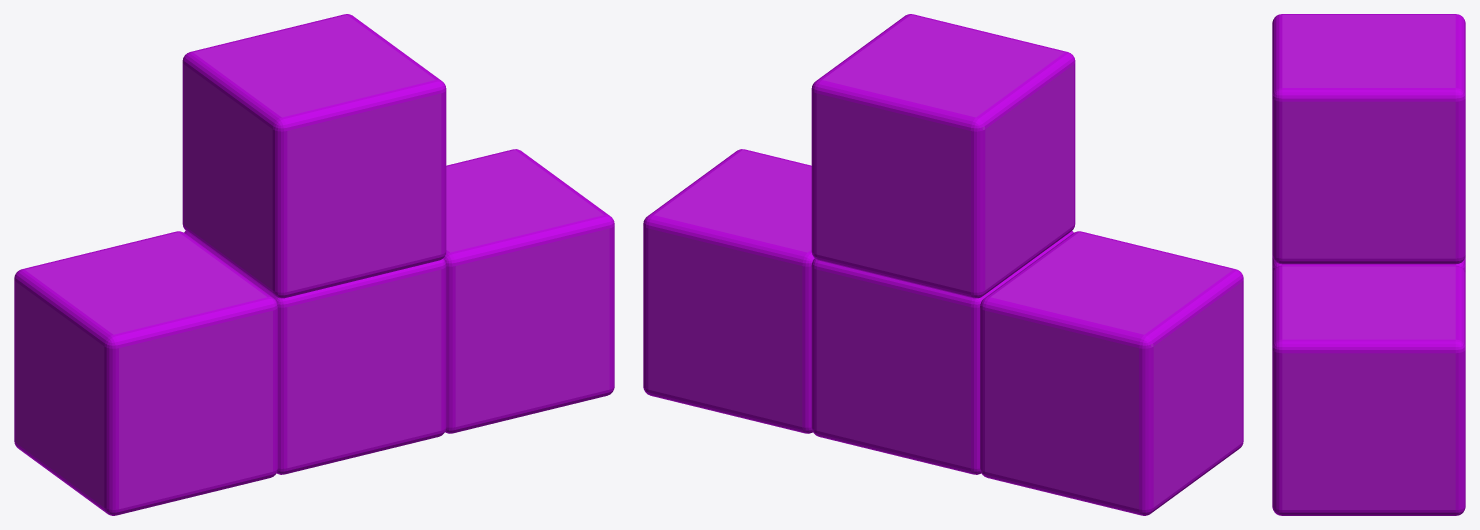
Rendered from purple.glb.
3 views of the same model, side by side, from view 1: azimuth 30°, elevation 25°; view 2: azimuth 150°, elevation 25°; view 3: azimuth 270°, elevation 25° (orthographic). The views are drawn at different scales.
Visible parts, largest first — view 1: Cube.003, Cube.002, Cube.001, Cube; view 2: Cube.003, Cube.002, Cube.001, Cube; view 3: Cube.001, Cube.003, Cube.
Part boxes in pixels (box(x1,y1,x2,y2)): Cube.003: box(182, 14, 446, 298); Cube.002: box(14, 231, 277, 515); Cube.001: box(443, 149, 614, 433); Cube: box(184, 231, 446, 474); Cube.003: box(811, 14, 1075, 298); Cube.002: box(980, 231, 1243, 515); Cube.001: box(643, 149, 814, 433); Cube: box(811, 231, 1073, 474); Cube.001: box(1272, 265, 1465, 515); Cube.003: box(1272, 14, 1465, 264); Cube: box(1272, 256, 1465, 273).
Bounding box in the file's own units: 3.02 × 2.02 × 1.02.
